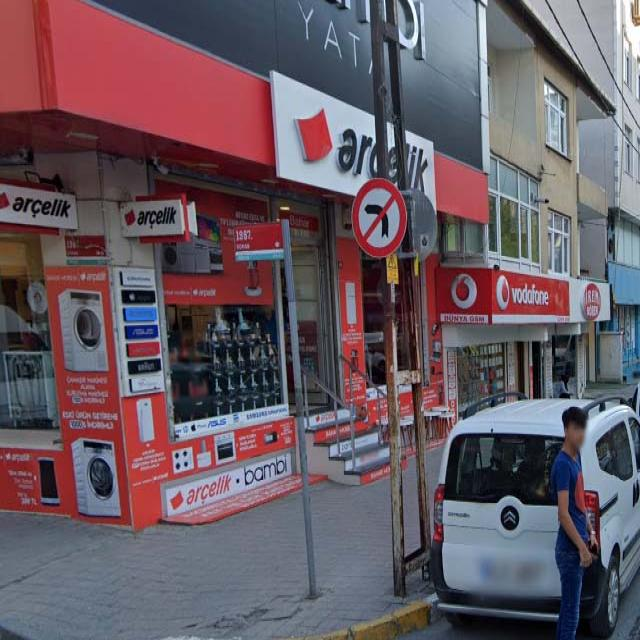soladonulmez: (351, 178, 407, 258)
